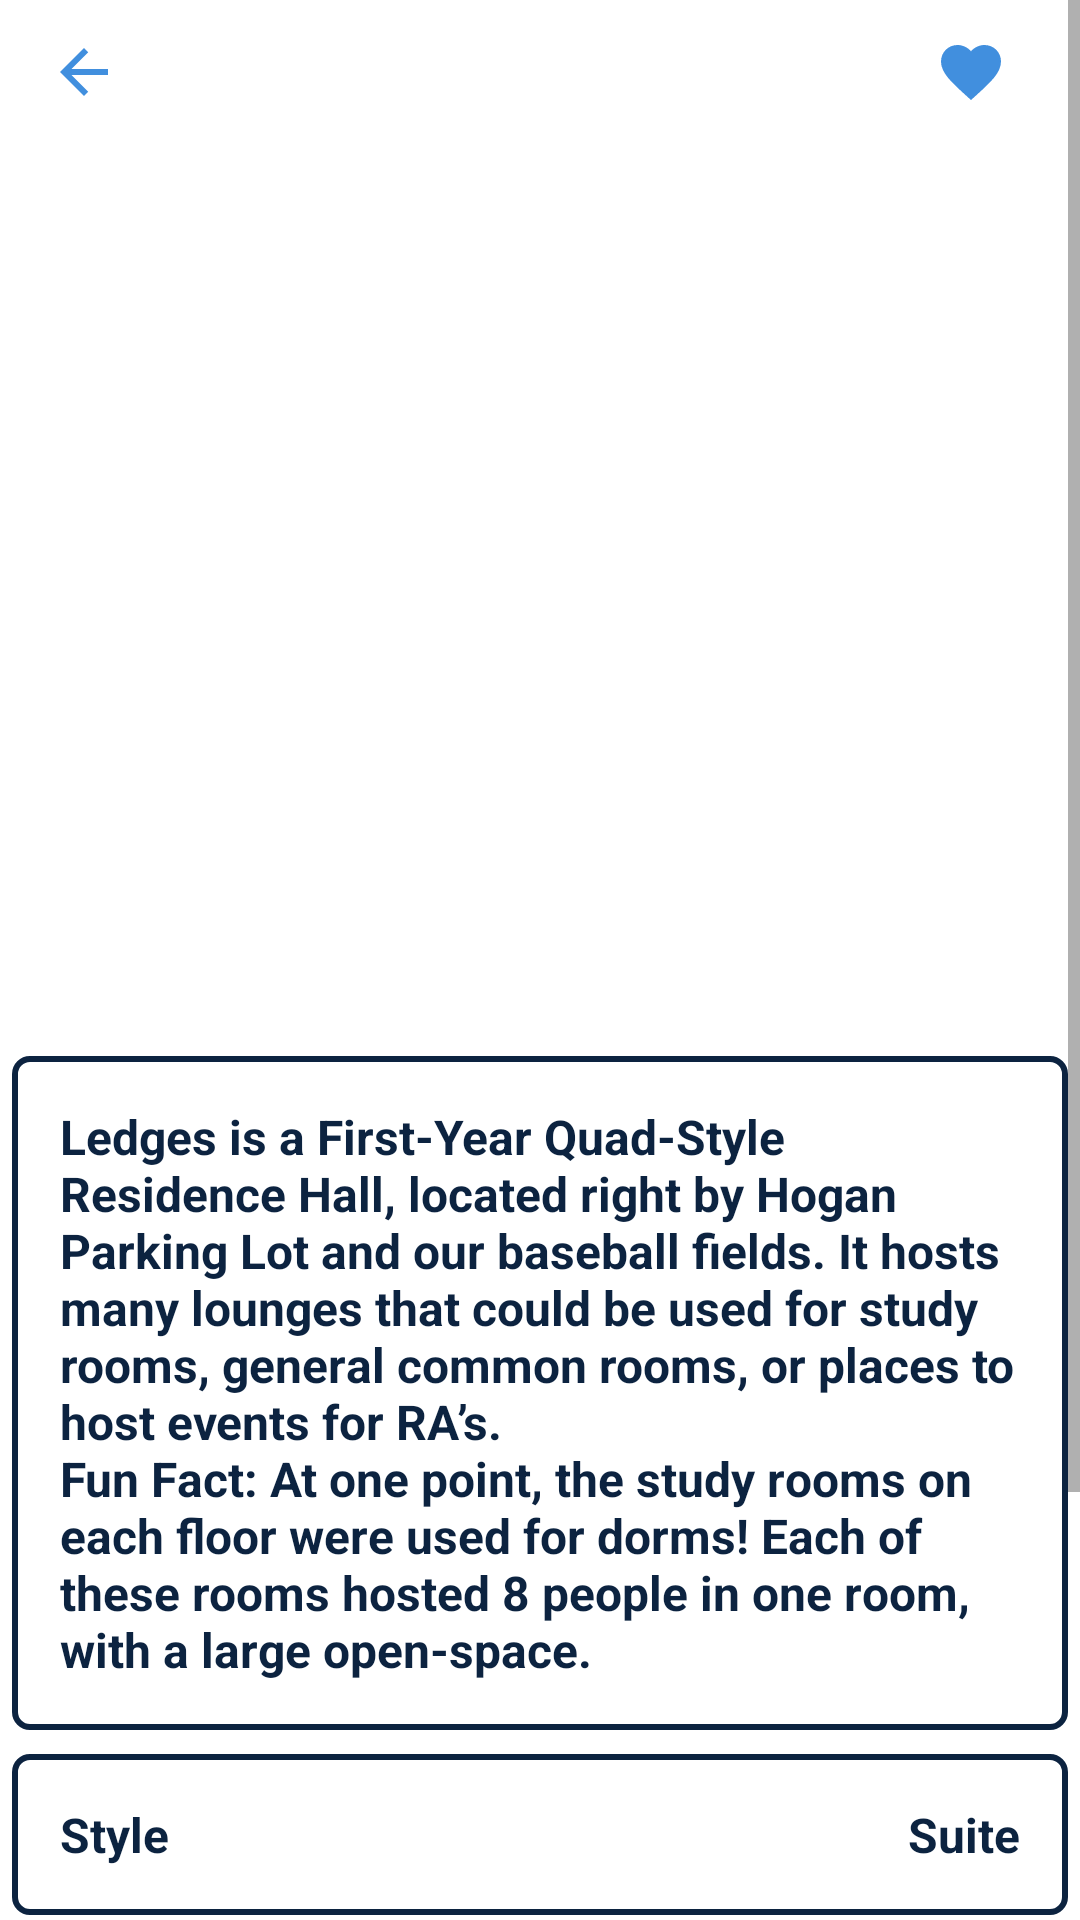

Point at icon controls on the screen. Image size 1080 × 1920, points as (x,y).
Back: (84,72)
favorite: (971,72)
